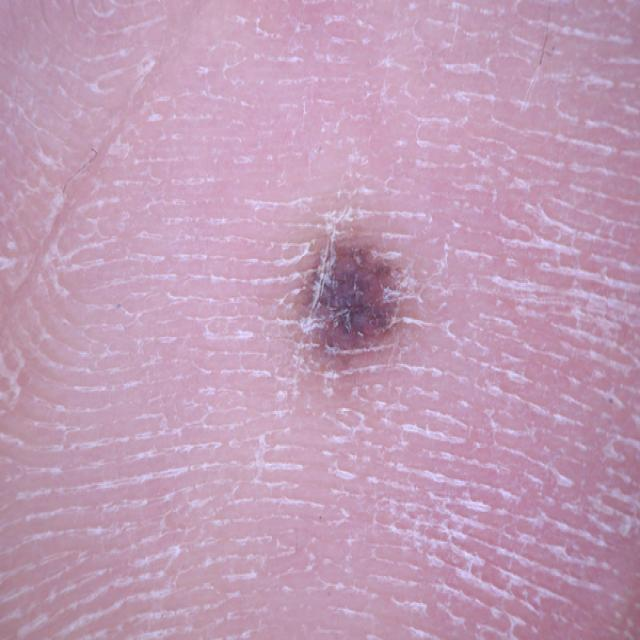NV: (282, 213, 412, 383)
